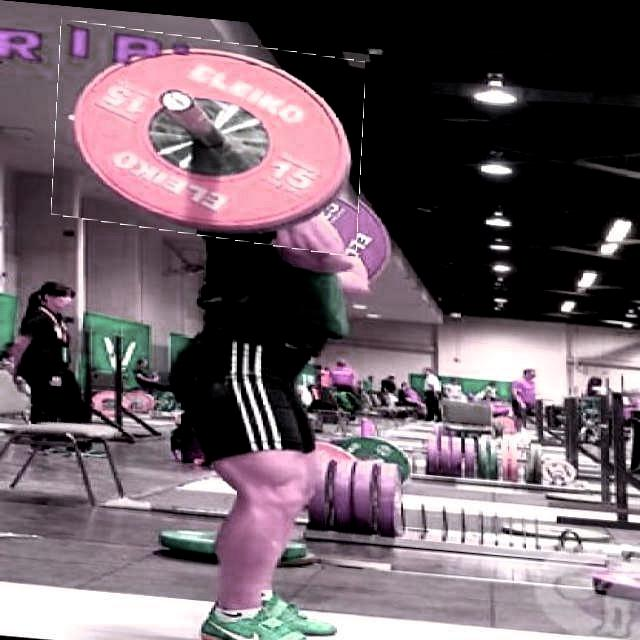barbell: (55, 22, 364, 247)
